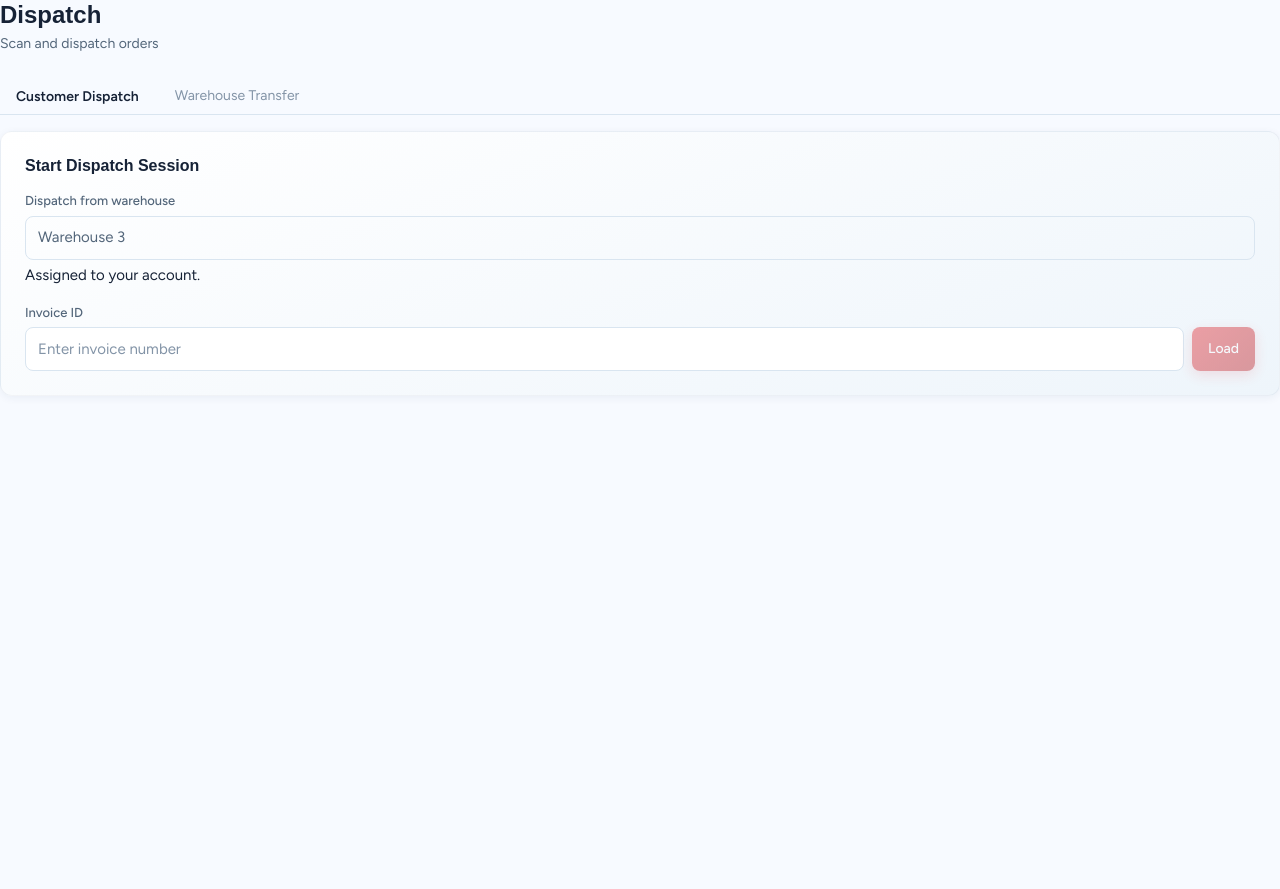
Test: DispatchPage — scan flows › valid scan renders ACCEPTED result
Type "1" into the field labelled "Invoice ID" at [605, 349], box [25,327,1184,371]
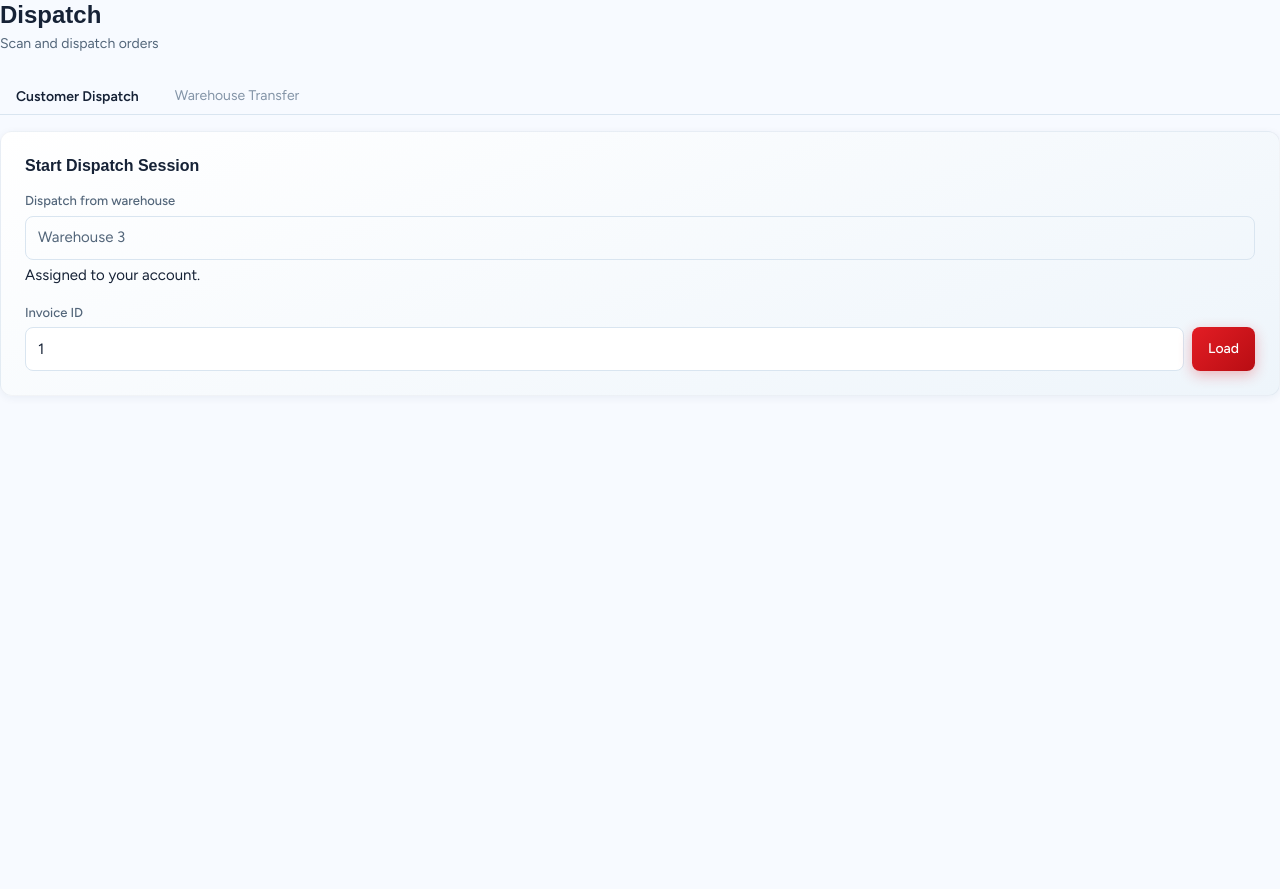
Click the button "Load" at [1224, 349], box [1192,327,1255,371]
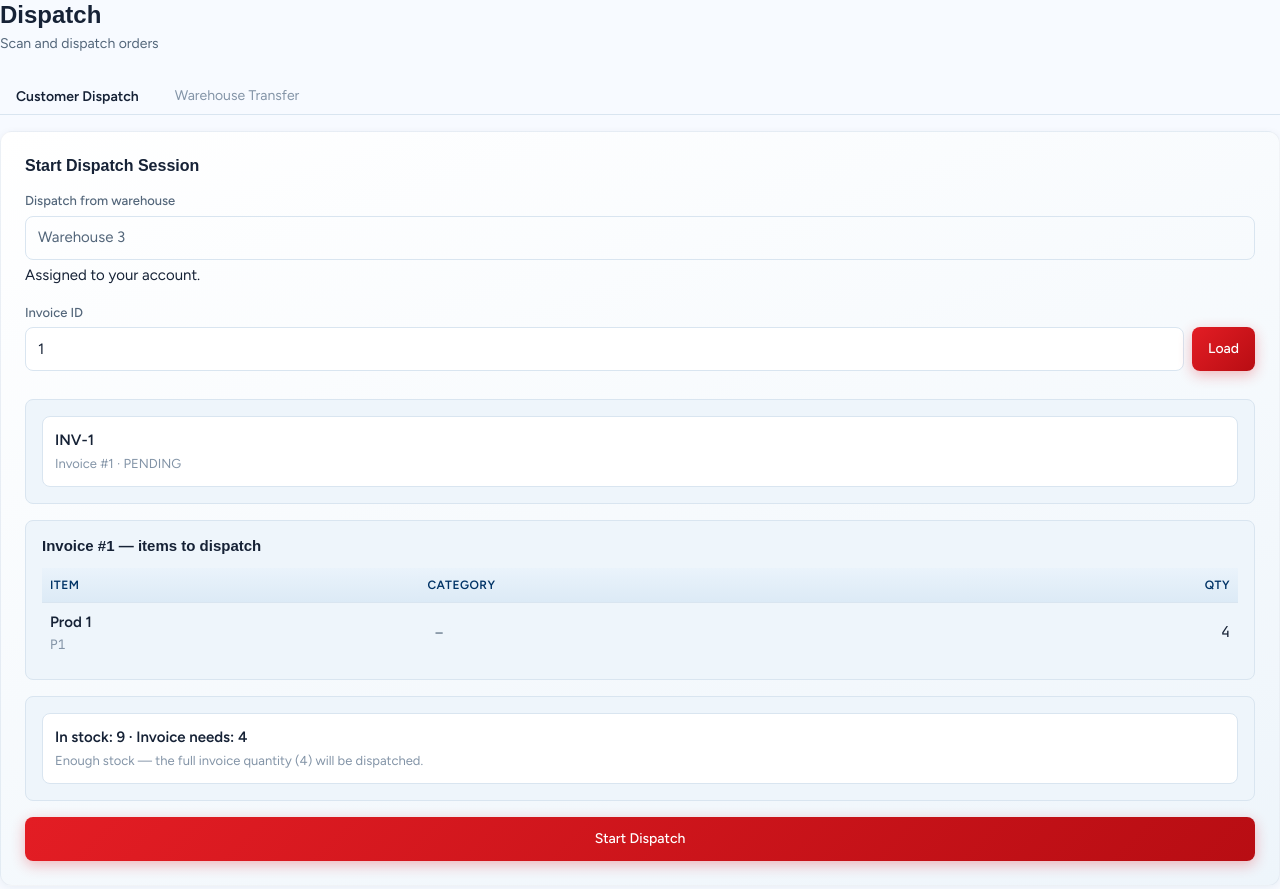
Now the text "In stock: 9 · Invoice needs: 4" is shown, box [55,728,247,746]
Click the button "Start Dispatch" at [640, 839], box [25,817,1255,861]
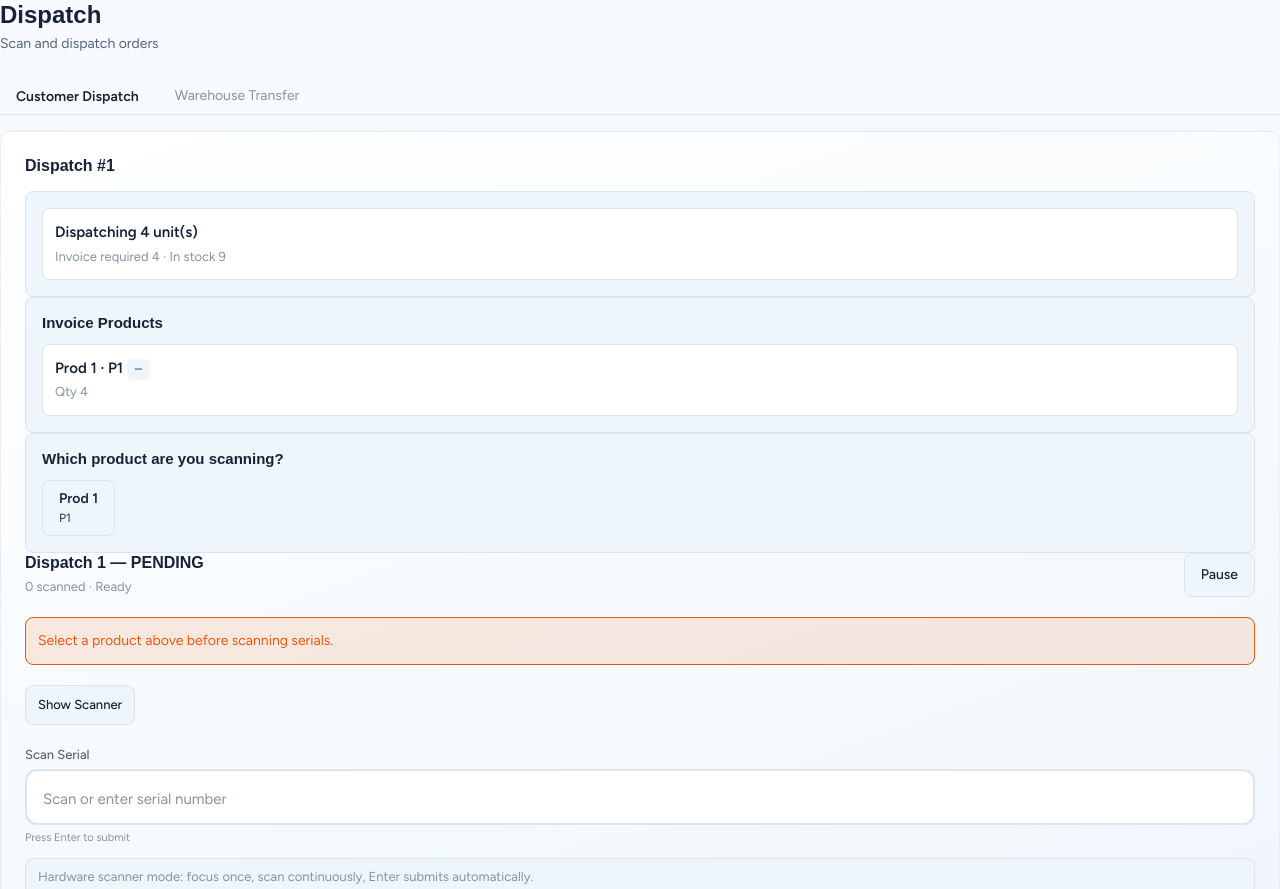
Now the heading "Dispatch #1" is shown, box [25,156,115,176]
Click the button "Prod 1 P1" at [78, 508], box [42,480,115,536]
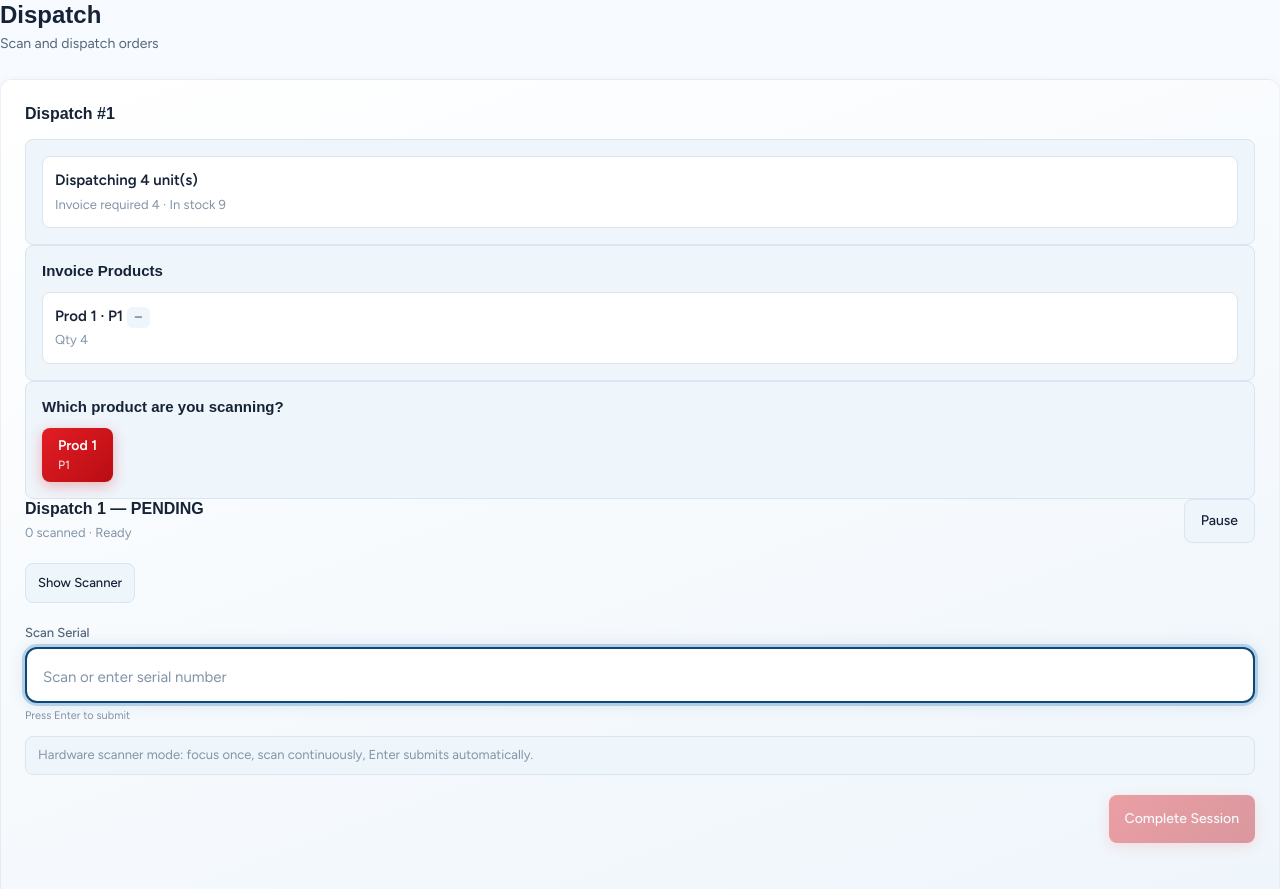
Type "S-1" into the field labelled "Scan Serial" at [640, 675], box [25,647,1255,703]
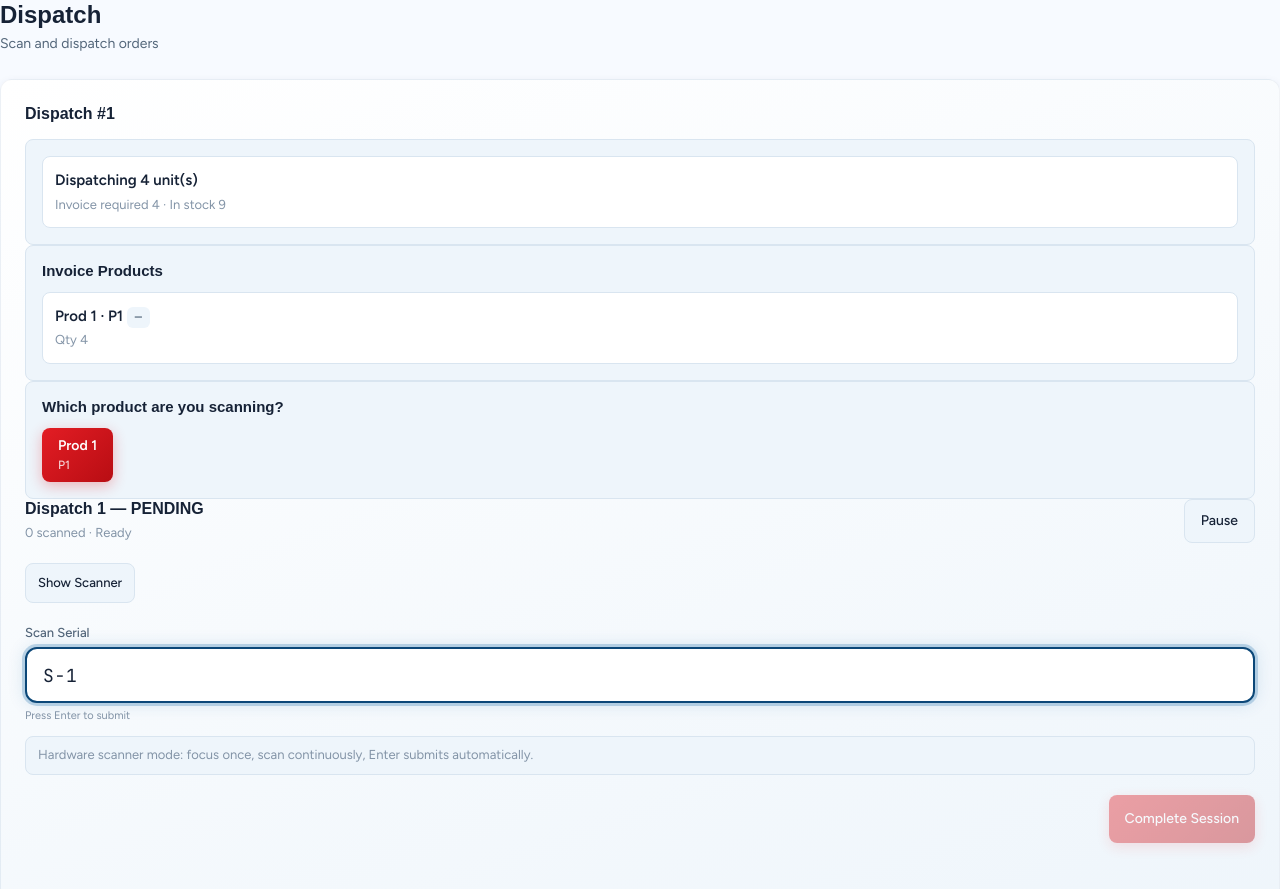
Press Enter in the field labelled "Scan Serial", box [25,647,1255,703]
(page scrolled)
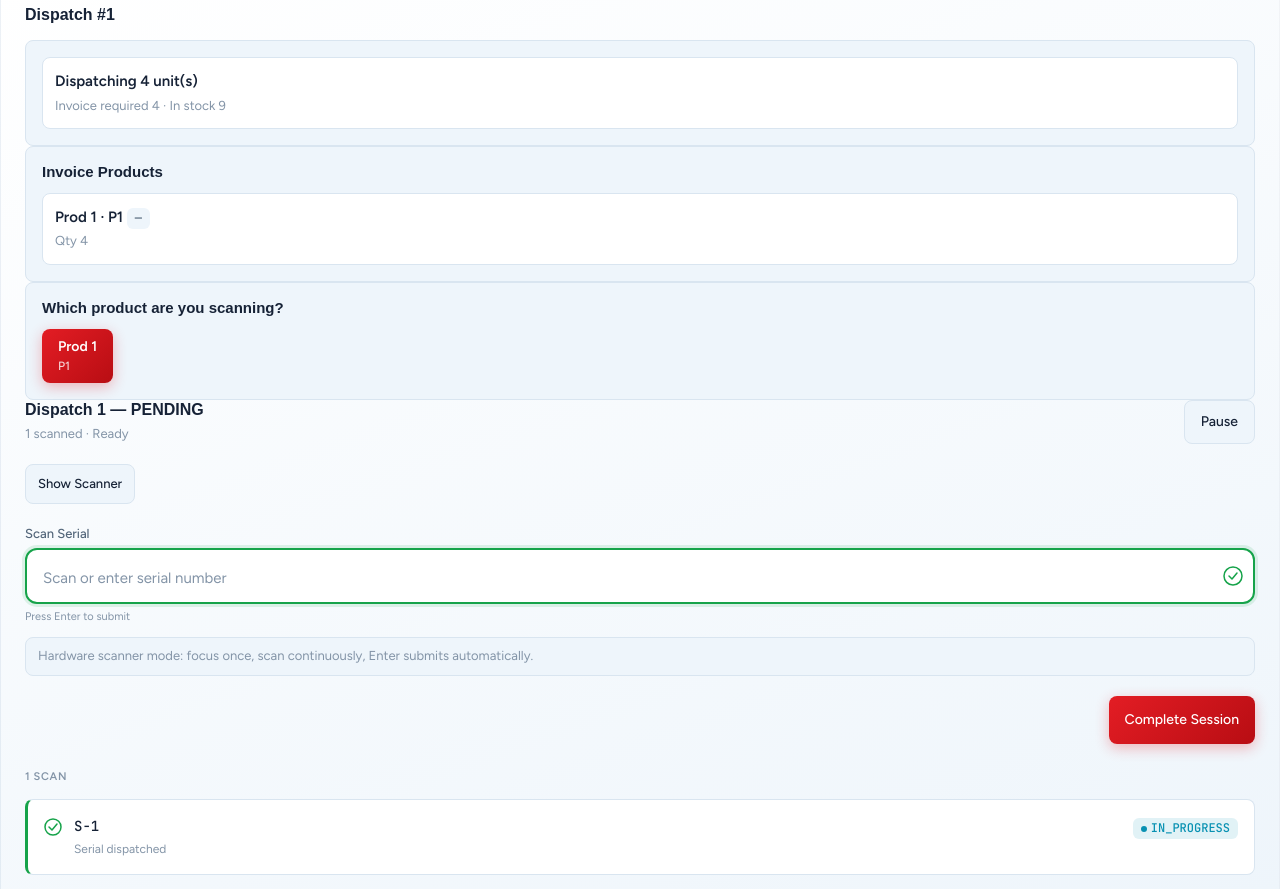
Now the text "Serial dispatched" is shown, box [74,842,166,856]
